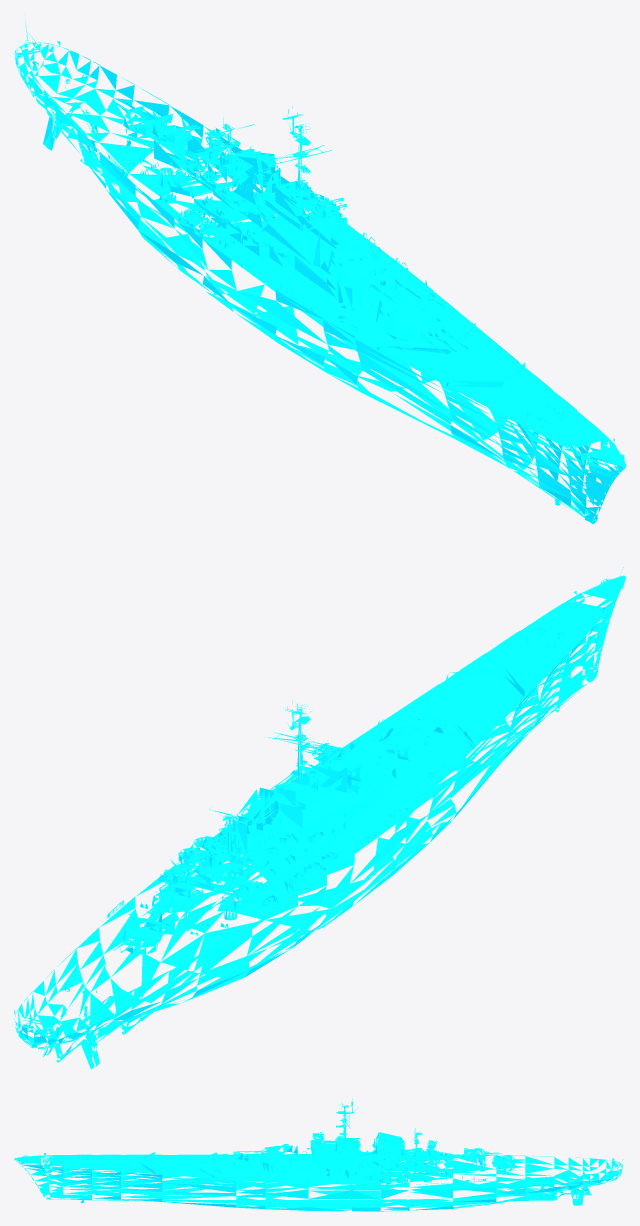
The model's file is PRSB528.glb.
3 views of the same model, one above another, from view 1: azimuth 30°, elevation 25°; view 2: azimuth 150°, elevation 25°; view 3: azimuth 270°, elevation 25° (orthographic). The views are drawn at different scales.
Parts seen in each view (by area): view 1: hull, turret; view 2: hull, turret; view 3: hull, turret.
Part boxes in pixels (x1,y1,x2,y2): hull: (14,14,625,524); turret: (113,99,468,354); hull: (14,567,625,1069); turret: (113,702,468,952); hull: (14,1098,623,1211); turret: (184,1143,530,1182).
Size of the model in its own units: 2.29 by 3.48 by 18.36.
